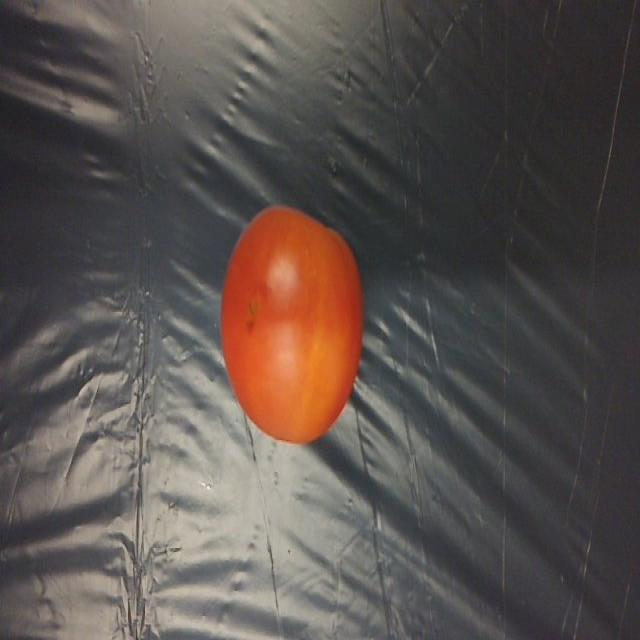sari: (204, 194, 373, 453)
